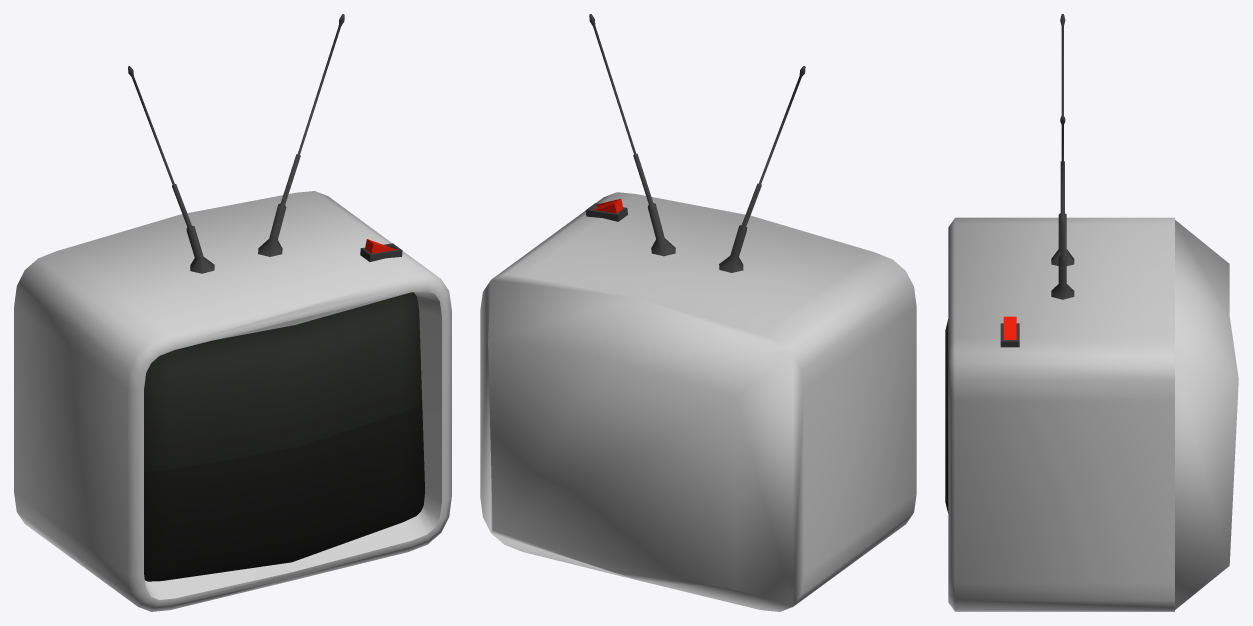
3 views of the same model, side by side, from view 1: azimuth 30°, elevation 25°; view 2: azimuth 150°, elevation 25°; view 3: azimuth 270°, elevation 25° (orthographic). The views are drawn at different scales.
Parts seen in each view (by area): view 1: Tv; view 2: Tv; view 3: Tv.
Boxes of the visible parts, x1,y1,x2,y2 form: Tv: [14, 14, 451, 611]; Tv: [480, 14, 916, 611]; Tv: [945, 14, 1238, 611].
Bounding box in the file's own units: 125 × 184 × 101.
